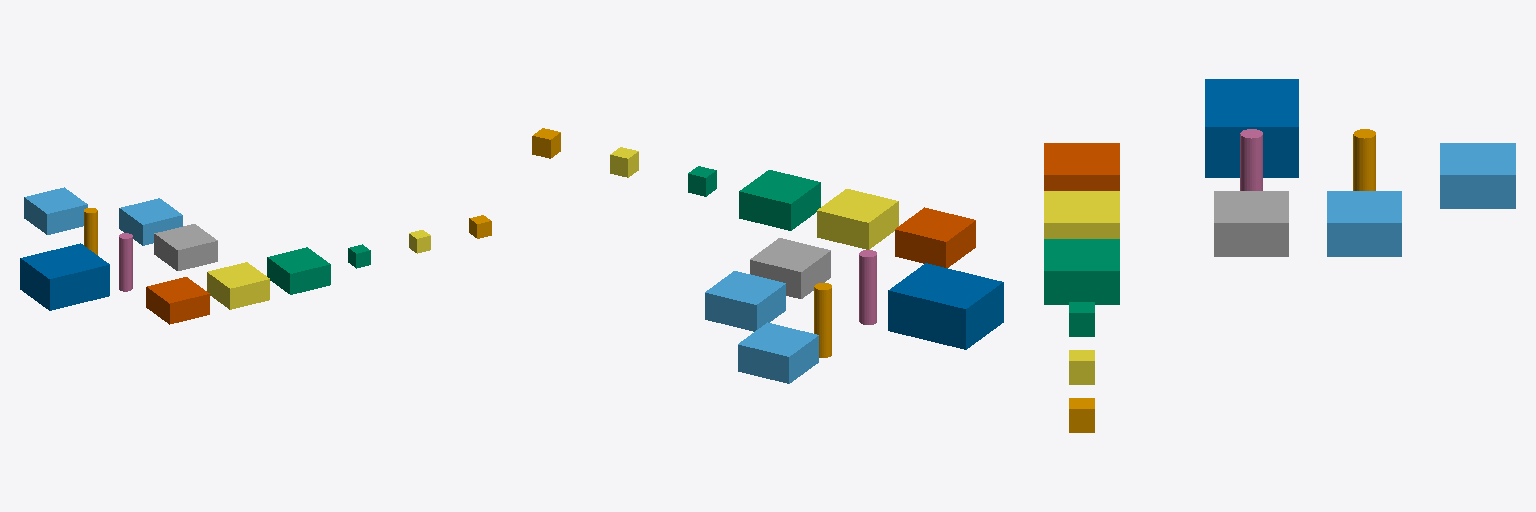
robot.urdf — planetary_gear_assembly:
<?xml version="1.0" ?>
<robot name="planetary_gear_assembly">
  <link name="bearing_means">
    <visual>
      <geometry>
        <box size="0.014 0.014 0.014"/>
      </geometry>
    </visual>
  </link>
  <link name="first_carrier">
    <visual>
      <geometry>
        <box size="0.04 0.04 0.02"/>
      </geometry>
    </visual>
  </link>
  <link name="first_gear_coupling">
    <visual>
      <geometry>
        <box size="0.014 0.014 0.014"/>
      </geometry>
    </visual>
  </link>
  <link name="helical_gear_portions">
    <visual>
      <geometry>
        <box size="0.04 0.04 0.02"/>
      </geometry>
    </visual>
  </link>
  <link name="housing">
    <visual>
      <geometry>
        <box size="0.06 0.05 0.03"/>
      </geometry>
    </visual>
  </link>
  <link name="inner_central_gear">
    <visual>
      <geometry>
        <box size="0.04 0.04 0.02"/>
      </geometry>
    </visual>
  </link>
  <link name="input_shaft">
    <visual>
      <geometry>
        <cylinder radius="0.006" length="0.05"/>
      </geometry>
    </visual>
  </link>
  <link name="outer_central_internal_gears">
    <visual>
      <geometry>
        <box size="0.04 0.04 0.02"/>
      </geometry>
    </visual>
  </link>
  <link name="output_shaft">
    <visual>
      <geometry>
        <cylinder radius="0.006" length="0.05"/>
      </geometry>
    </visual>
  </link>
  <link name="planetary_gears">
    <visual>
      <geometry>
        <box size="0.04 0.04 0.02"/>
      </geometry>
    </visual>
  </link>
  <link name="second_carrier">
    <visual>
      <geometry>
        <box size="0.04 0.04 0.02"/>
      </geometry>
    </visual>
  </link>
  <link name="second_gear_coupling">
    <visual>
      <geometry>
        <box size="0.014 0.014 0.014"/>
      </geometry>
    </visual>
  </link>
  <joint name="_attach_first_carrier_to_second_carrier" type="fixed">
    <parent link="first_carrier"/>
    <child link="second_carrier"/>
    <origin xyz="0.1200 -0.2100 0.0000" rpy="0 0 0"/>
  </joint>
  <joint name="_attach_housing_to_first_gear_coupling" type="fixed">
    <parent link="housing"/>
    <child link="first_gear_coupling"/>
    <origin xyz="0.2400 -0.0900 0.0000" rpy="0 0 0"/>
  </joint>
  <joint name="_attach_housing_to_helical_gear_portions" type="fixed">
    <parent link="housing"/>
    <child link="helical_gear_portions"/>
    <origin xyz="0.1200 -0.0900 0.0000" rpy="0 0 0"/>
  </joint>
  <joint name="_attach_housing_to_input_shaft" type="fixed">
    <parent link="housing"/>
    <child link="input_shaft"/>
    <origin xyz="0.0600 0.0000 0.0000" rpy="0 0 0"/>
  </joint>
  <joint name="_attach_housing_to_outer_central_internal_gears" type="fixed">
    <parent link="housing"/>
    <child link="outer_central_internal_gears"/>
    <origin xyz="0.1200 0.0000 0.0000" rpy="0 0 0"/>
  </joint>
  <joint name="_attach_housing_to_second_gear_coupling" type="fixed">
    <parent link="housing"/>
    <child link="second_gear_coupling"/>
    <origin xyz="0.3000 -0.0900 0.0000" rpy="0 0 0"/>
  </joint>
  <joint name="_attach_inner_central_gear_to_bearing_means" type="fixed">
    <parent link="inner_central_gear"/>
    <child link="bearing_means"/>
    <origin xyz="0.3000 0.0000 0.0000" rpy="0 0 0"/>
  </joint>
  <joint name="_attach_input_shaft_to_first_carrier" type="fixed">
    <parent link="input_shaft"/>
    <child link="first_carrier"/>
    <origin xyz="0.0000 0.1200 0.0000" rpy="0 0 0"/>
  </joint>
  <joint name="_attach_input_shaft_to_output_shaft" type="fixed">
    <parent link="input_shaft"/>
    <child link="output_shaft"/>
    <origin xyz="0.0000 0.0600 0.0000" rpy="0 0 0"/>
  </joint>
  <joint name="_attach_outer_central_internal_gears_to_planetary_gears" type="fixed">
    <parent link="outer_central_internal_gears"/>
    <child link="planetary_gears"/>
    <origin xyz="0.0000 0.0600 0.0000" rpy="0 0 0"/>
  </joint>
  <joint name="_attach_planetary_gears_to_inner_central_gear" type="fixed">
    <parent link="planetary_gears"/>
    <child link="inner_central_gear"/>
    <origin xyz="-0.0600 -0.1500 0.0000" rpy="0 0 0"/>
  </joint>
</robot>

--- What the picture shows (computed from the rendered views, not written in the file) ---
3 views of the same robot in one strip: view 1: azimuth 30°, elevation 25°; view 2: azimuth 150°, elevation 25°; view 3: azimuth 270°, elevation 25° (orthographic).
Model planetary_gear_assembly with 12 links and 11 joints (11 fixed), rooted at housing, posed every joint at zero.
Links seen in each view (by area): view 1: housing, inner_central_gear, outer_central_internal_gears, second_carrier, helical_gear_portions, first_carrier, planetary_gears, input_shaft, output_shaft; view 2: housing, helical_gear_portions, second_carrier, first_carrier, inner_central_gear, planetary_gears, outer_central_internal_gears, input_shaft, output_shaft, second_gear_coupling, first_gear_coupling, bearing_means; view 3: housing, first_carrier, outer_central_internal_gears, planetary_gears, second_carrier, helical_gear_portions, inner_central_gear, input_shaft, output_shaft, bearing_means, first_gear_coupling, second_gear_coupling.
Boxes of the visible links, x1,y1,x2,y2 form: housing: [20, 243, 109, 310]; inner_central_gear: [146, 277, 209, 324]; outer_central_internal_gears: [154, 224, 217, 270]; second_carrier: [267, 247, 330, 294]; helical_gear_portions: [207, 262, 269, 309]; first_carrier: [24, 187, 87, 234]; planetary_gears: [119, 198, 182, 245]; input_shaft: [119, 233, 132, 291]; output_shaft: [84, 208, 97, 254]; housing: [888, 263, 1003, 349]; helical_gear_portions: [817, 189, 898, 249]; second_carrier: [739, 170, 820, 230]; first_carrier: [738, 322, 818, 383]; inner_central_gear: [895, 207, 975, 267]; planetary_gears: [705, 271, 785, 331]; outer_central_internal_gears: [750, 238, 830, 298]; input_shaft: [859, 250, 876, 324]; output_shaft: [814, 283, 831, 357]; second_gear_coupling: [610, 147, 638, 177]; first_gear_coupling: [688, 166, 716, 196]; bearing_means: [532, 128, 560, 158]; housing: [1205, 79, 1298, 177]; first_carrier: [1440, 143, 1515, 208]; outer_central_internal_gears: [1214, 191, 1288, 256]; planetary_gears: [1327, 191, 1401, 256]; second_carrier: [1044, 239, 1119, 304]; helical_gear_portions: [1044, 191, 1119, 238]; inner_central_gear: [1044, 143, 1119, 190]; input_shaft: [1240, 129, 1262, 190]; output_shaft: [1353, 129, 1375, 190]; bearing_means: [1069, 398, 1094, 432]; first_gear_coupling: [1069, 302, 1094, 336]; second_gear_coupling: [1069, 350, 1094, 384].
Size in the robot's own frame: 0.397 by 0.25 by 0.05 metres.
Geometry: primitives only (box / cylinder / sphere), no mesh files.
